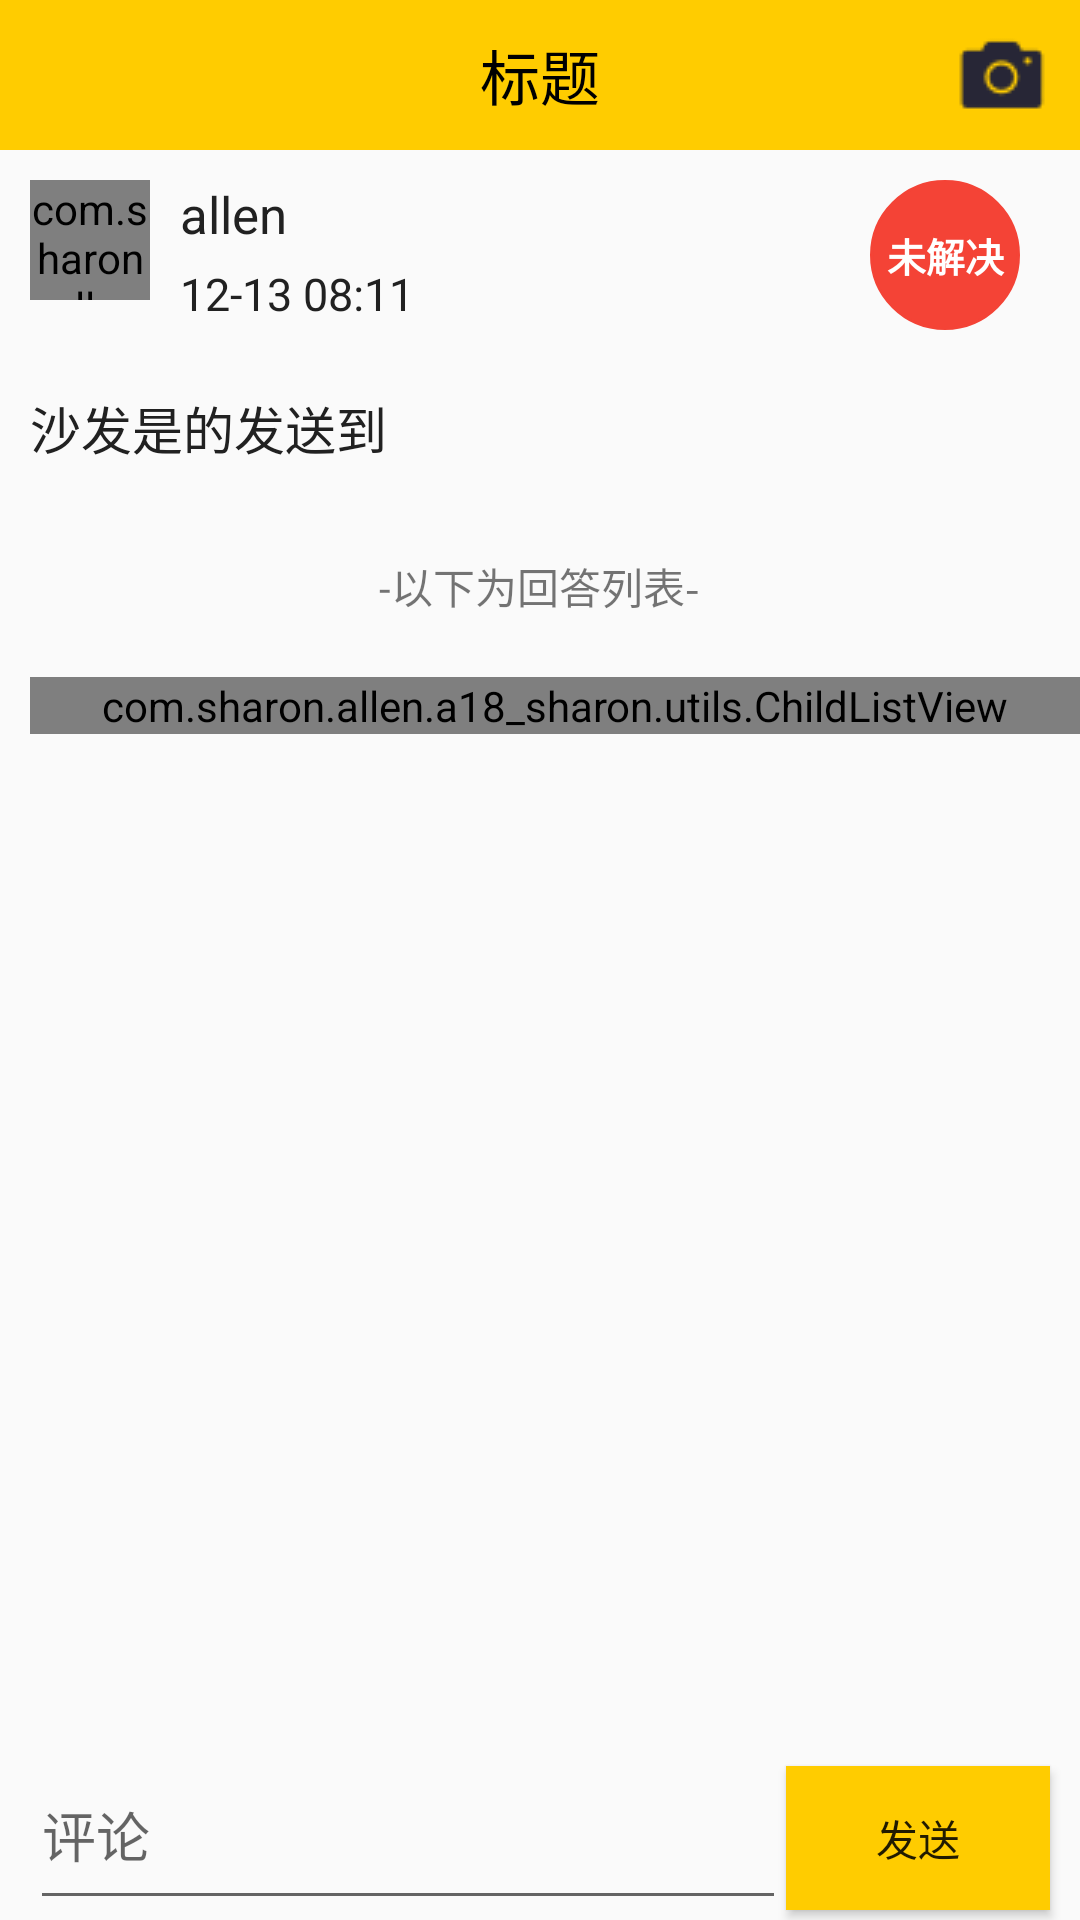

Where to tap for icons on this 1080w x 1920h app screen, as point (x, y):
camera: point (1001, 75)
